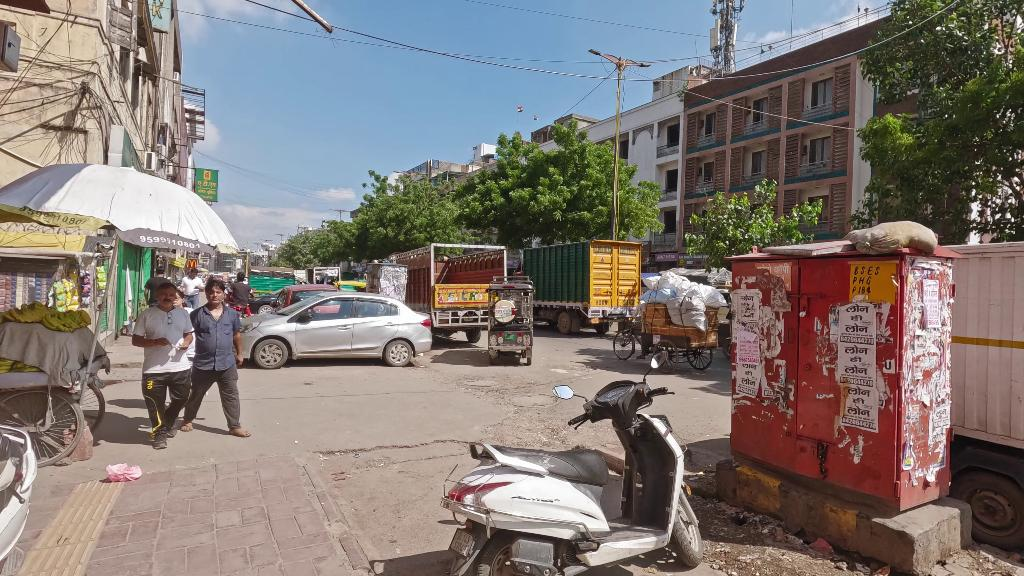garbage: (104, 461, 141, 481)
